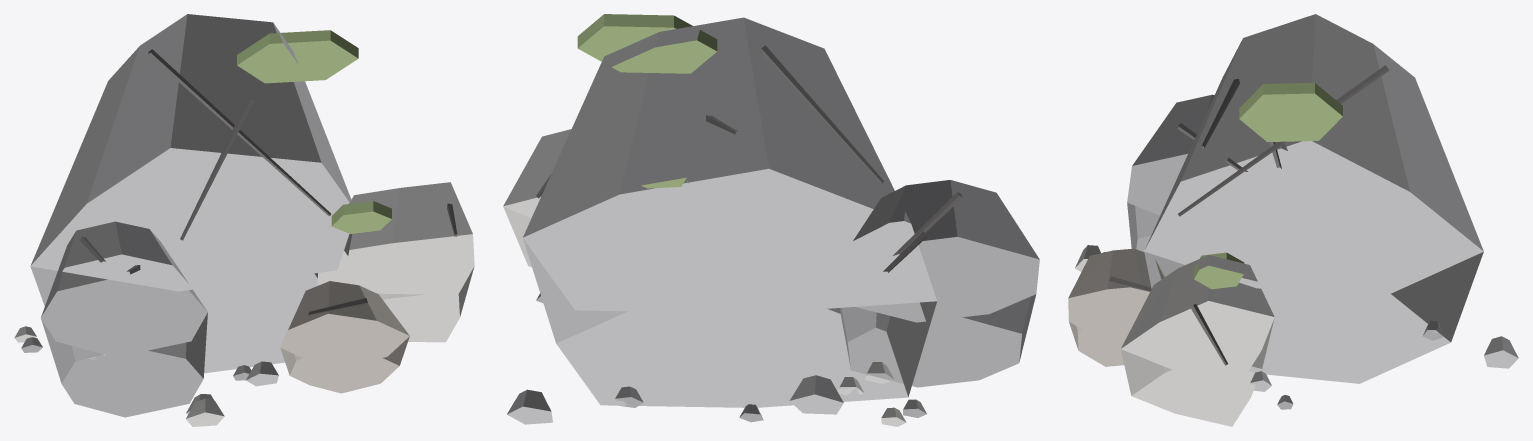
The model's file is stone_1.glb.
3 renders of one model, left to right at view 1: azimuth 30°, elevation 25°; view 2: azimuth 150°, elevation 25°; view 3: azimuth 270°, elevation 25°, orthographic. The views are drawn at different scales.
Visible parts, largest first — view 1: Boulder#2, Boulder#4, Boulder#6, Boulder#3, Boulder, Boulder#8, Moss, Boulder#5, Boulder#7, Moss#2, Crack, Crack#2 (+2 smaller); view 2: Boulder#2, Boulder, Boulder#4, Boulder#3, Moss, Boulder#6, Pebble#4, Pebble#7, Crack#2, Boulder#5, Crack#3; view 3: Boulder#2, Boulder, Boulder#6, Boulder#8, Boulder#5, Moss, Boulder#4, Boulder#7, Crack, Moss#2, Boulder#3, Pebble#7 (+1 smaller).
Part boxes in pixels (x1,y1,x2,y2): Boulder#2: (30, 14, 351, 291); Boulder#4: (41, 221, 207, 357); Boulder#6: (317, 182, 474, 294); Boulder#3: (41, 312, 207, 417); Boulder: (30, 234, 352, 373); Boulder#8: (280, 281, 409, 368); Moss: (237, 30, 358, 83); Boulder#5: (376, 266, 474, 342); Boulder#7: (280, 336, 409, 393); Moss#2: (331, 201, 391, 233); Crack: (148, 49, 330, 215); Crack#2: (180, 97, 254, 240); Boulder#2: (523, 17, 936, 313); Boulder: (523, 238, 936, 407); Boulder#4: (853, 180, 1039, 322); Boulder#3: (839, 294, 1036, 387); Moss: (577, 14, 717, 73); Boulder#6: (503, 129, 689, 218); Pebble#4: (789, 375, 843, 414); Pebble#7: (507, 389, 552, 424); Crack#2: (760, 45, 883, 183); Boulder#5: (503, 206, 531, 267); Crack#3: (893, 192, 962, 255); Boulder#2: (1144, 14, 1483, 300); Boulder: (1144, 251, 1483, 383); Boulder#6: (1121, 255, 1274, 385); Boulder#8: (1068, 248, 1165, 340); Boulder#5: (1120, 318, 1274, 426); Moss: (1239, 82, 1342, 141); Boulder#4: (1127, 94, 1287, 215); Boulder#7: (1069, 322, 1126, 366); Crack: (1178, 65, 1389, 216); Moss#2: (1194, 252, 1244, 289); Boulder#3: (1127, 202, 1159, 251); Pebble#7: (1484, 336, 1518, 368).
Bounding box in the file's own units: 3.06 × 1.7 × 2.68.
